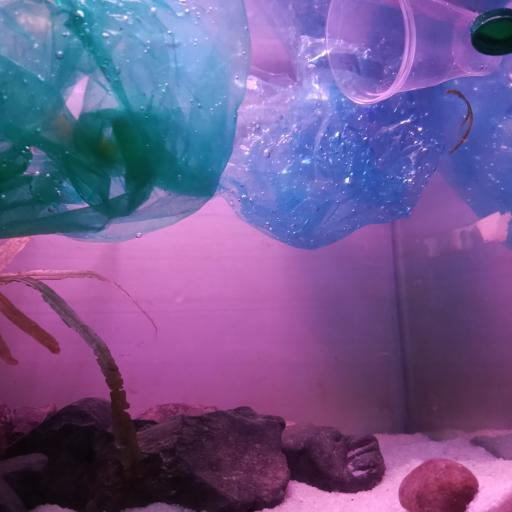bottle_cap: (469, 8, 512, 56)
plastic_bag: (221, 0, 512, 251), (0, 0, 251, 242)
plastic_cup: (326, 0, 503, 107)
